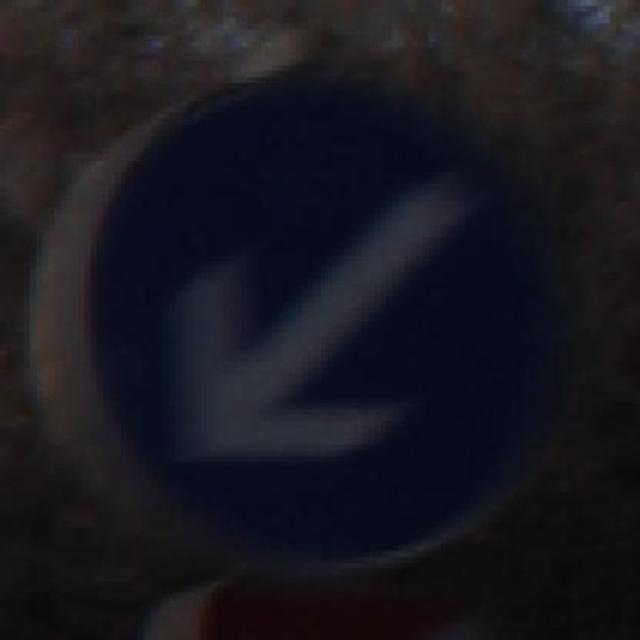Keep-Left: (30, 65, 616, 587)
